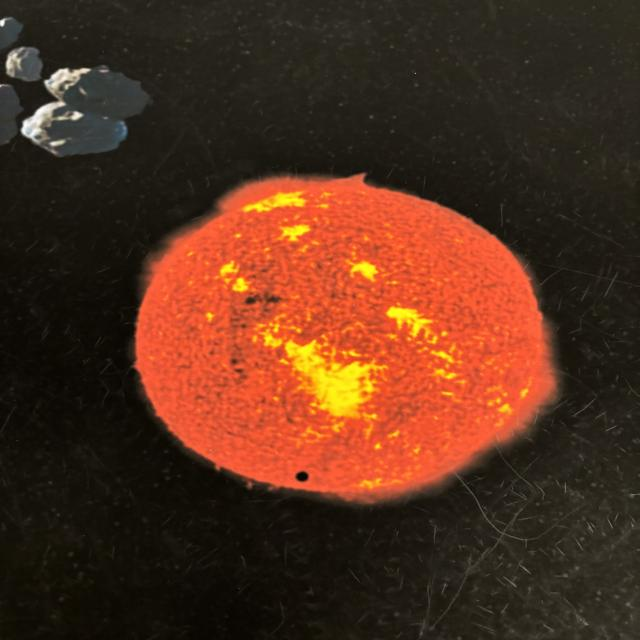Asteroids: (0, 11, 153, 158)
Sun: (132, 167, 557, 503)
